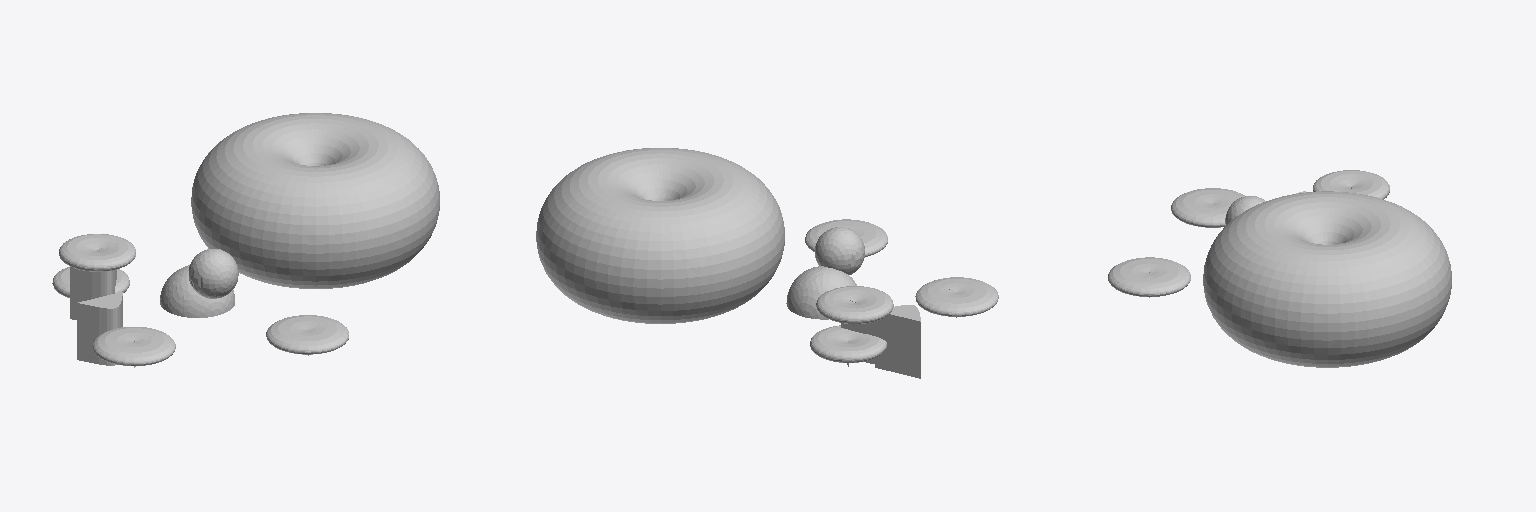
File: Something.obj
The picture shows the model from 3 angles: view 1: azimuth 30°, elevation 25°; view 2: azimuth 150°, elevation 25°; view 3: azimuth 270°, elevation 25°; orthographic projection.
Parts seen in each view (by area): view 1: Object2, Object3, Object4, Object6, Object7, Object1, Object8, Object5; view 2: Object2, Object4, Object6, Object7, Object5, Object1, Object3, Object8; view 3: Object2, Object3, Object4, Object6.
Boxes of the visible parts, <box> form: Object2: <box>191,113,439,288</box>; Object3: <box>266,315,348,355</box>; Object4: <box>92,327,175,367</box>; Object6: <box>59,234,135,271</box>; Object7: <box>77,292,122,365</box>; Object1: <box>189,249,238,298</box>; Object8: <box>70,267,116,319</box>; Object5: <box>52,267,129,297</box>; Object2: <box>536,148,784,323</box>; Object4: <box>915,277,998,317</box>; Object6: <box>816,286,893,326</box>; Object7: <box>875,305,920,378</box>; Object5: <box>810,325,886,366</box>; Object1: <box>815,227,864,274</box>; Object3: <box>805,219,887,256</box>; Object8: <box>841,316,887,367</box>; Object2: <box>1203,191,1451,367</box>; Object3: <box>1108,257,1190,297</box>; Object4: <box>1171,188,1244,227</box>; Object6: <box>1313,170,1389,199</box>.
Bounding box in the file's own units: 52.55 × 19.14 × 40.95.